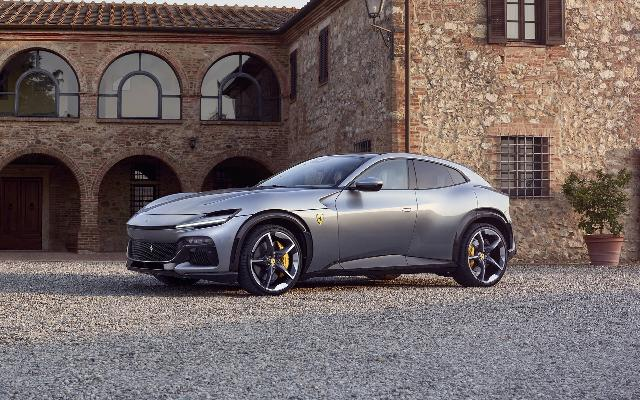ferrari: (125, 152, 517, 296)
